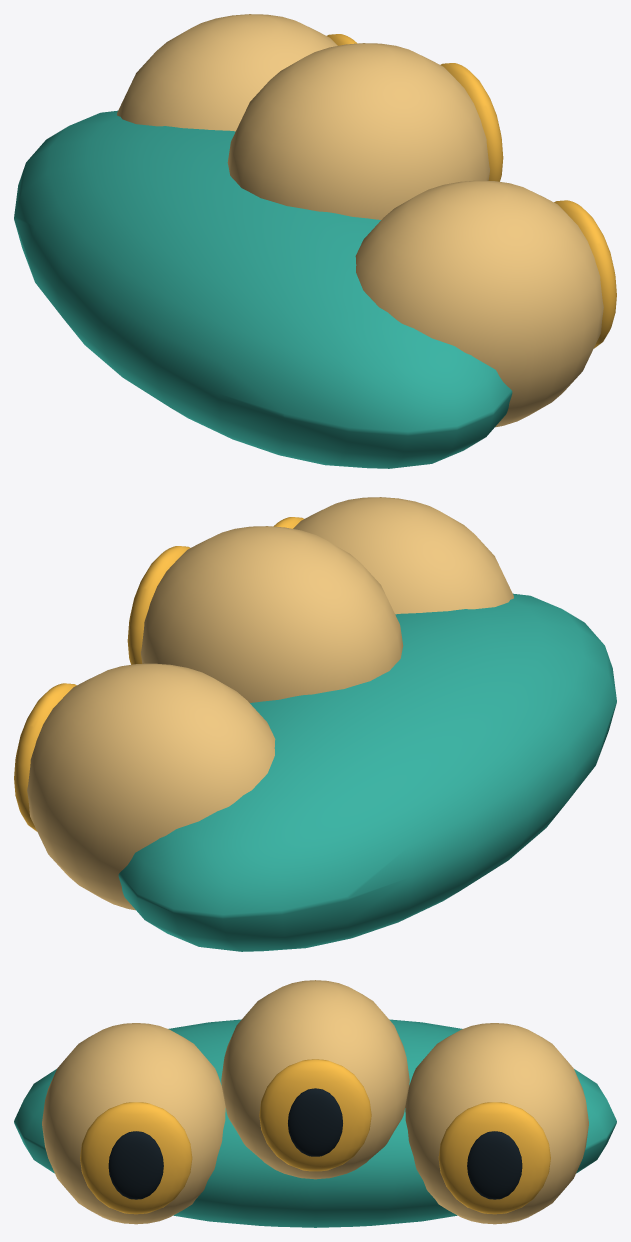
Rendered from eye_triad.glb.
The picture shows the model from 3 angles, top to bottom: view 1: azimuth 30°, elevation 25°; view 2: azimuth 150°, elevation 25°; view 3: azimuth 270°, elevation 25°; orthographic projection. The views are drawn at different scales.
Parts seen in each view (by area): view 1: eye_triad; view 2: eye_triad; view 3: eye_triad.
Boxes of the visible parts, x1,y1,x2,y2 form: eye_triad: (14, 14, 616, 468); eye_triad: (14, 497, 616, 951); eye_triad: (14, 980, 616, 1227).
Size of the model in its own units: 0.753 by 0.59 by 1.28.
